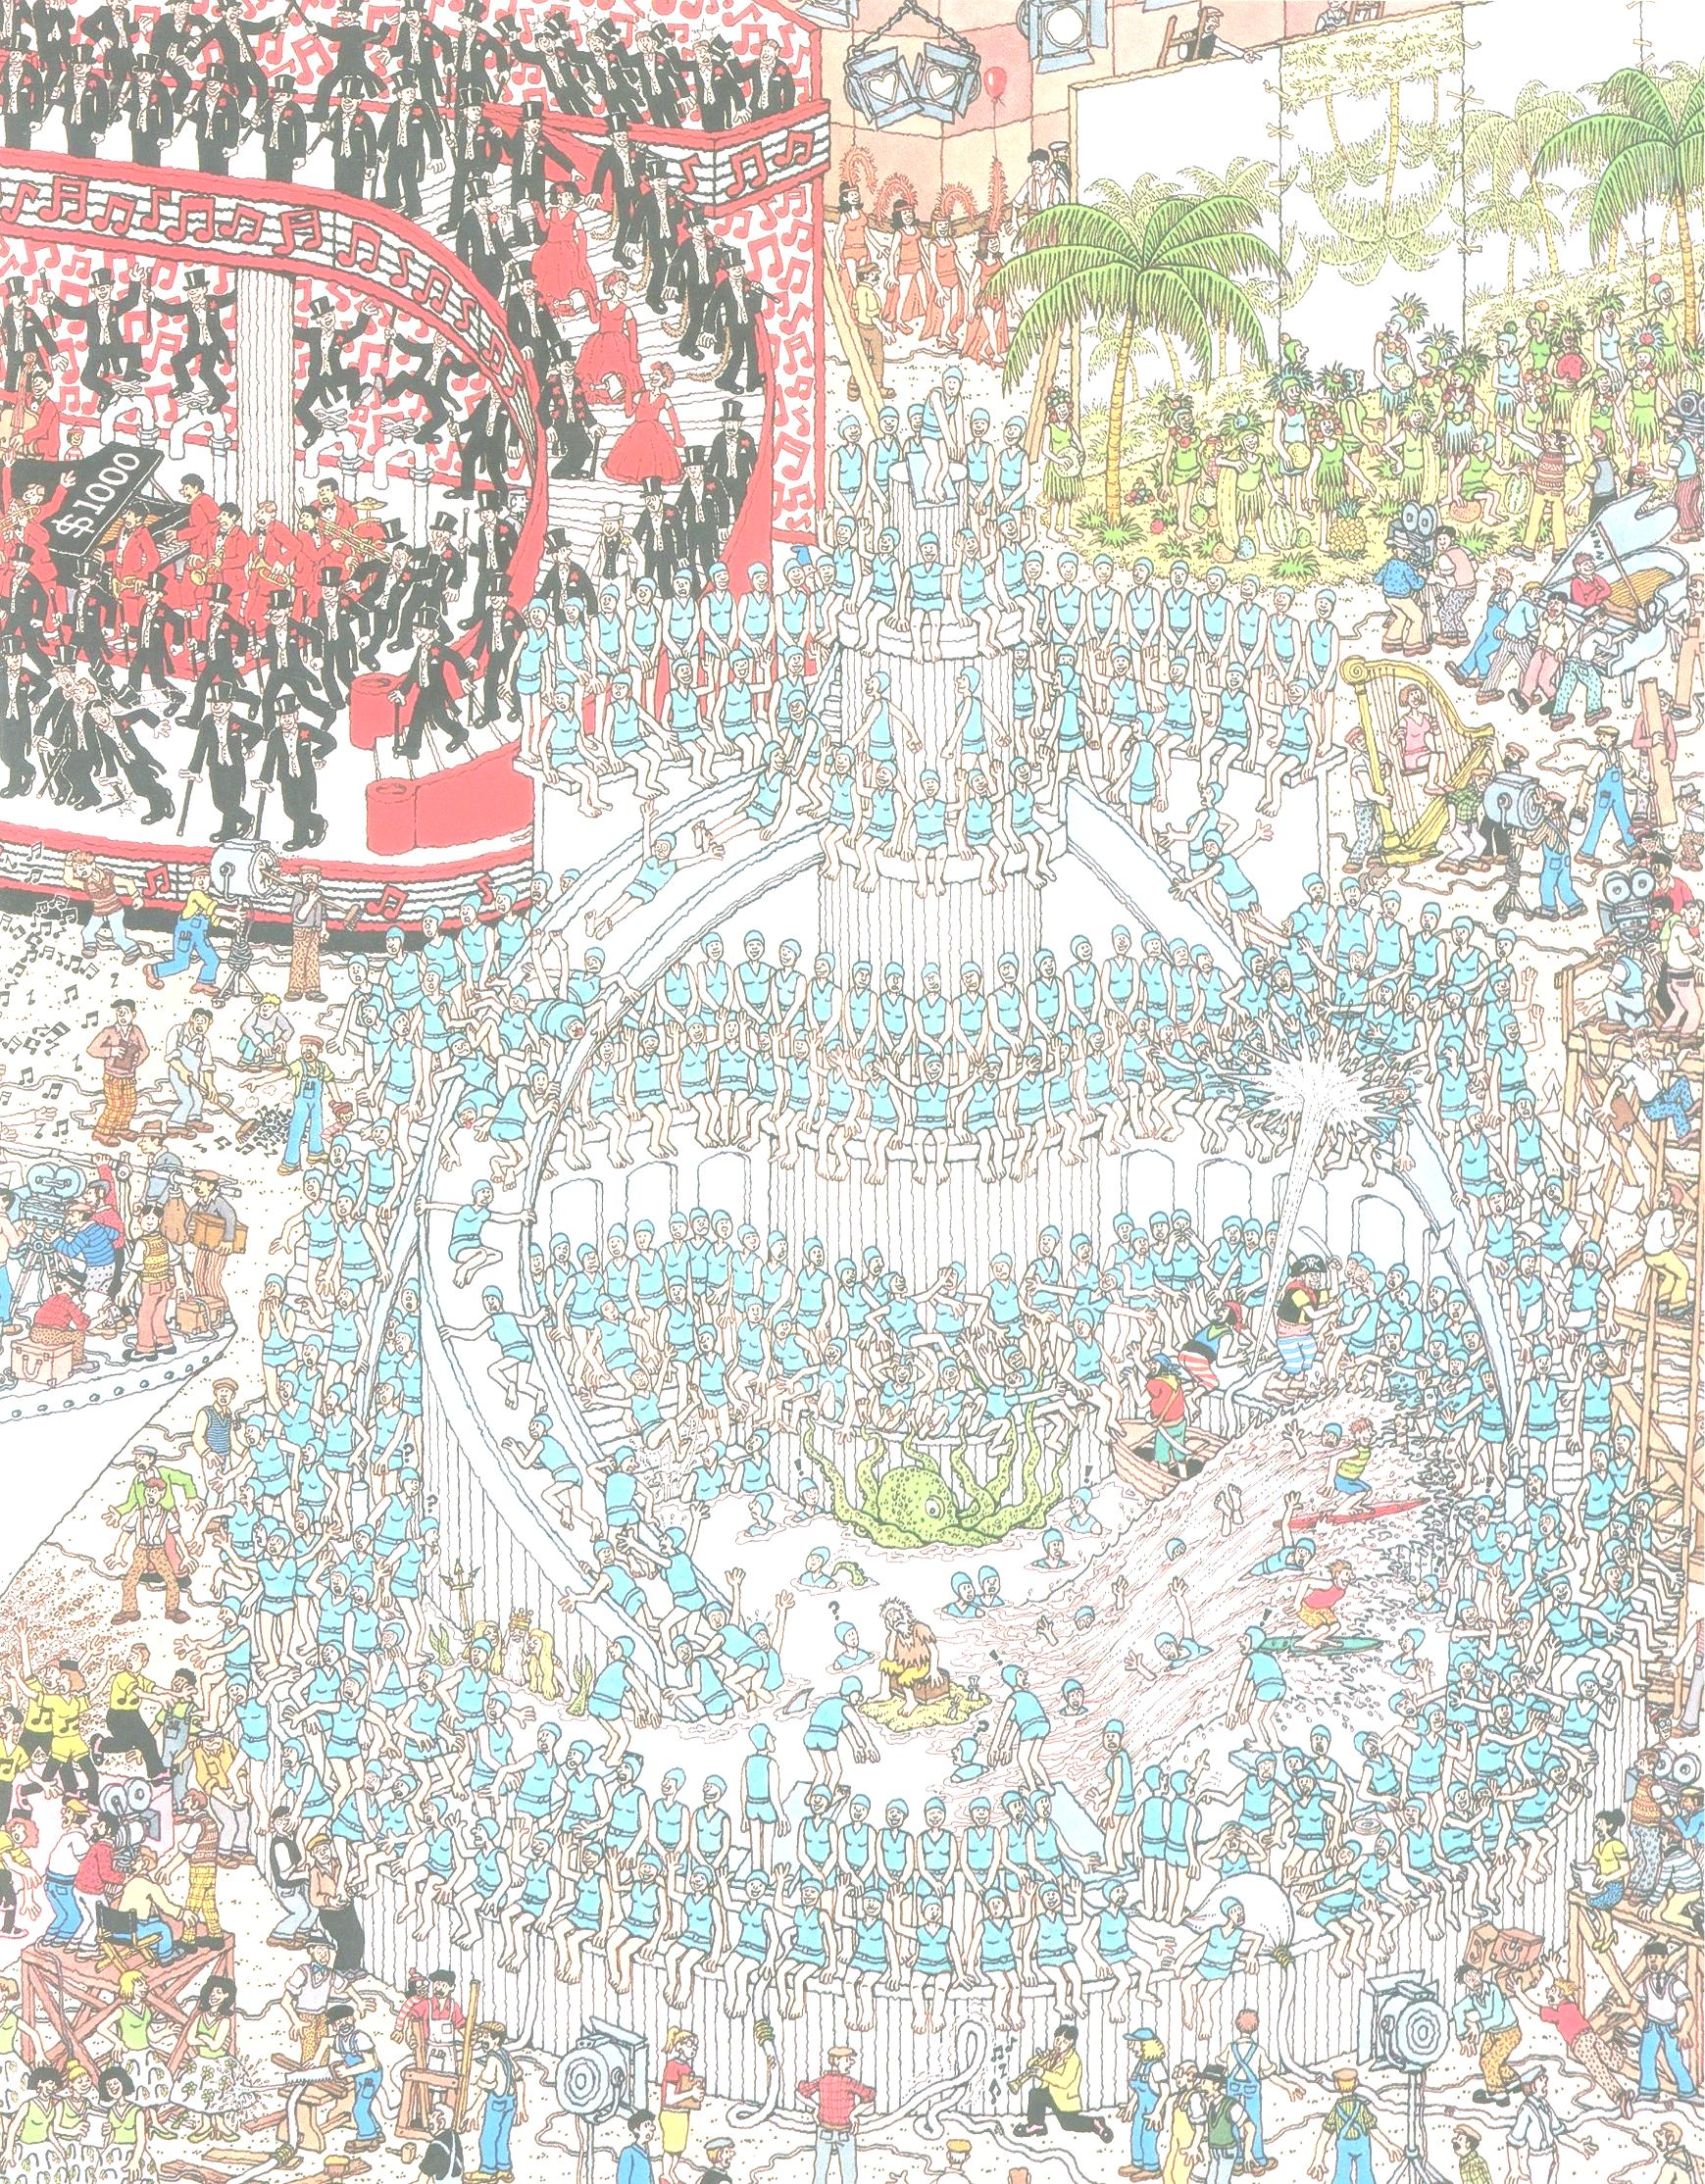waldos: (1641, 1698, 1675, 1750)
